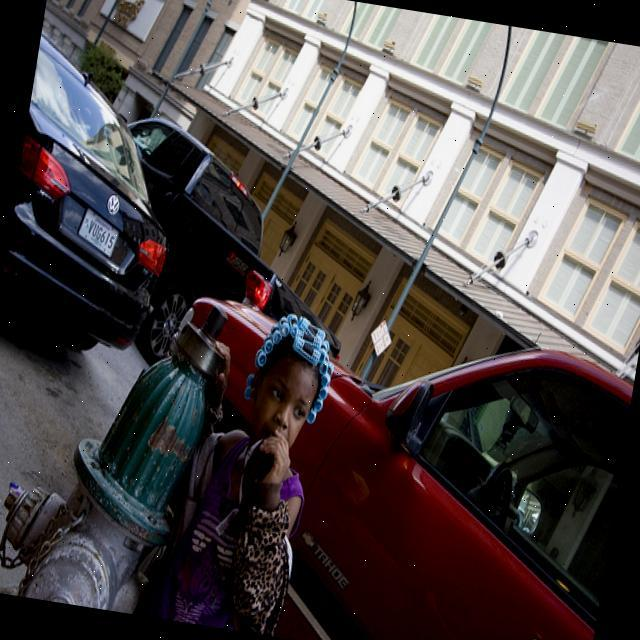fire_hydrant: (0, 271, 229, 612)
